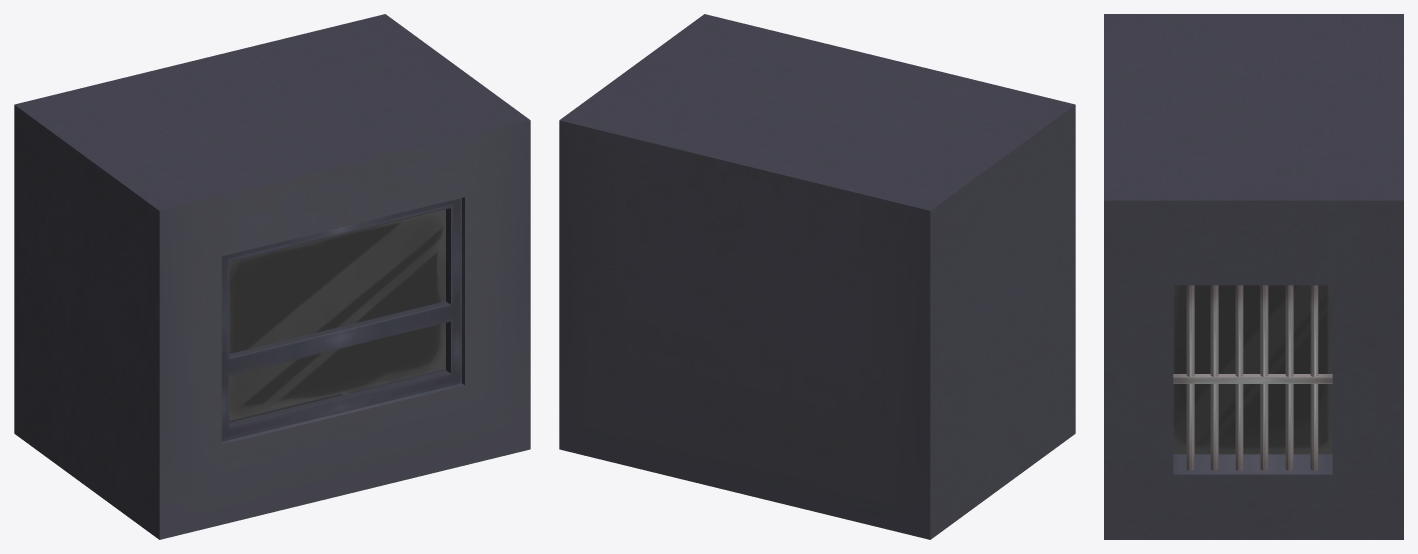
The model's file is S1_mod_BarBuilding_003.fbx.
3 renders of one model, left to right at view 1: azimuth 30°, elevation 25°; view 2: azimuth 150°, elevation 25°; view 3: azimuth 270°, elevation 25°, orthographic. The views are drawn at different scales.
Parts seen in each view (by area): view 1: S1_mod_BarBuilding_003; view 2: S1_mod_BarBuilding_003; view 3: S1_mod_BarBuilding_003.
Boxes of the visible parts, <box> form: S1_mod_BarBuilding_003: <box>14,14,530,539</box>; S1_mod_BarBuilding_003: <box>559,14,1075,539</box>; S1_mod_BarBuilding_003: <box>1104,14,1403,539</box>.
Size of the model in its own units: 416 by 352 by 282.
